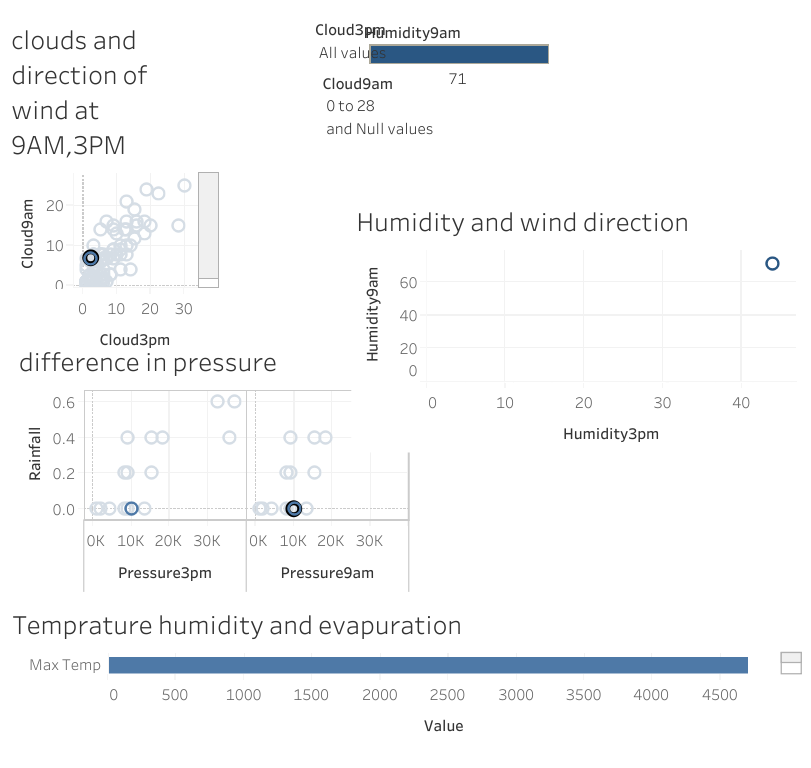

The dashboard page shown, as its layout file describes it:
{"tool":"tableau","page":{"name":"Dashboard 1","canvas":[650,860],"ordinal":0},"visuals":[{"type":"legend","title":"Humidity and wind direction","param":"[federated.1dvpae10v115iq14d25z51dqbkad].[sum:Humidity9am:qk]","box":[288,8.1,160,73.7]},{"type":"worksheet","title":"clouds and direction of wind at 9AM,3PM","mark":"Automatic","rows":["Cloud9am"],"cols":["Cloud3pm"],"box":[5,15.1,285,347.2]},{"type":"filter","title":"clouds and direction of wind at 9AM,3PM","param":"[federated.1dvpae10v115iq14d25z51dqbkad].[sum:Cloud3pm:qk]","box":[252,18.2,168,73.7]},{"type":"filter","title":"clouds and direction of wind at 9AM,3PM","param":"[federated.1dvpae10v115iq14d25z51dqbkad].[sum:Cloud9am:qk]","box":[258,78.7,168,73.7]},{"type":"worksheet","title":"Humidity and wind direction","mark":"Automatic","rows":["Humidity9am"],"cols":["Humidity3pm"],"box":[281,220,356,286.7]},{"type":"worksheet","title":"difference in pressure","mark":"Automatic","rows":["Rainfall"],"cols":["Pressure3pm","Pressure9am"],"box":[11,375.5,317,286.7]},{"type":"worksheet","title":"Temprature humidity and evapuration","mark":"Automatic","box":[6,670.2,636,162.5]}]}

Visuals, with their boxes on the page's 650x860 design canvas (x1, y1, x2, y2). These are canvas units, not pixel positions in the 811x768 screenshot, which may show the page scaled, cropped or inside an application window:
"Humidity and wind direction" legend: x1=288, y1=8, x2=448, y2=82
"clouds and direction of wind at 9AM,3PM" worksheet: x1=5, y1=15, x2=290, y2=362
"clouds and direction of wind at 9AM,3PM" filter: x1=252, y1=18, x2=420, y2=92
"clouds and direction of wind at 9AM,3PM" filter: x1=258, y1=79, x2=426, y2=152
"Humidity and wind direction" worksheet: x1=281, y1=220, x2=637, y2=507
"difference in pressure" worksheet: x1=11, y1=376, x2=328, y2=662
"Temprature humidity and evapuration" worksheet: x1=6, y1=670, x2=642, y2=833
